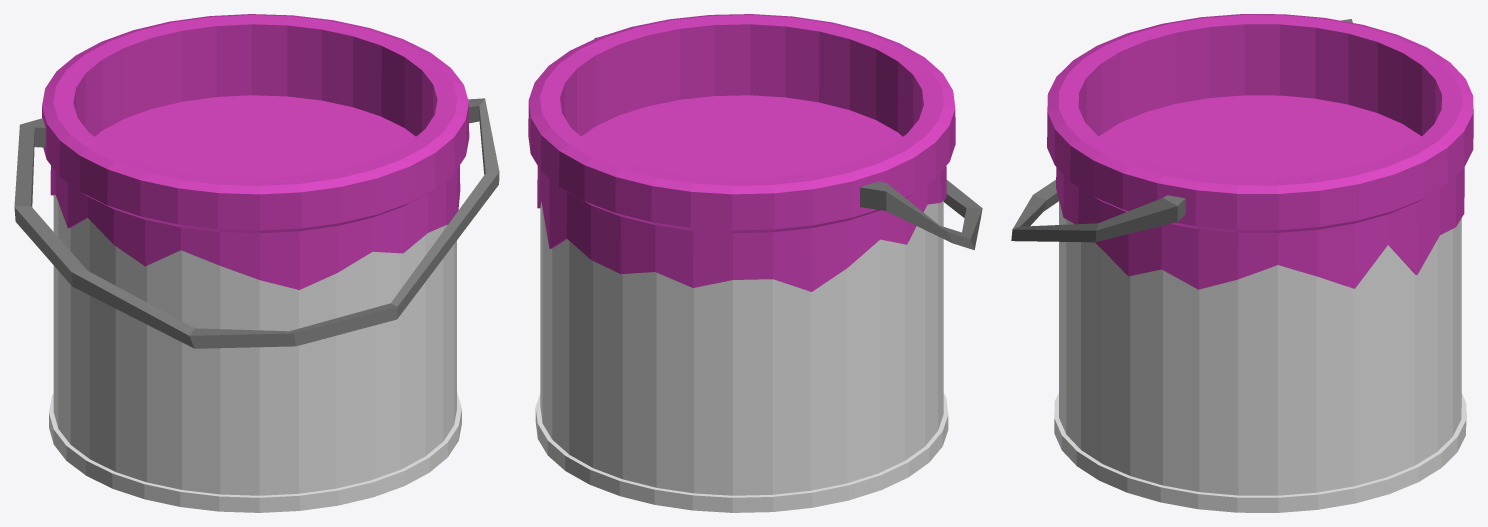
The model's file is Paint_Bucket.fbx.
3 views of the same model, side by side, from view 1: azimuth 30°, elevation 25°; view 2: azimuth 150°, elevation 25°; view 3: azimuth 270°, elevation 25° (orthographic).
Parts seen in each view (by area): view 1: Cylinder; view 2: Cylinder; view 3: Cylinder.
Boxes of the visible parts, x1,y1,x2,y2 form: Cylinder: (14,14,499,512); Cylinder: (528,14,982,512); Cylinder: (1011,14,1473,512).
Size of the model in its own units: 1.56 by 1.17 by 1.51.
